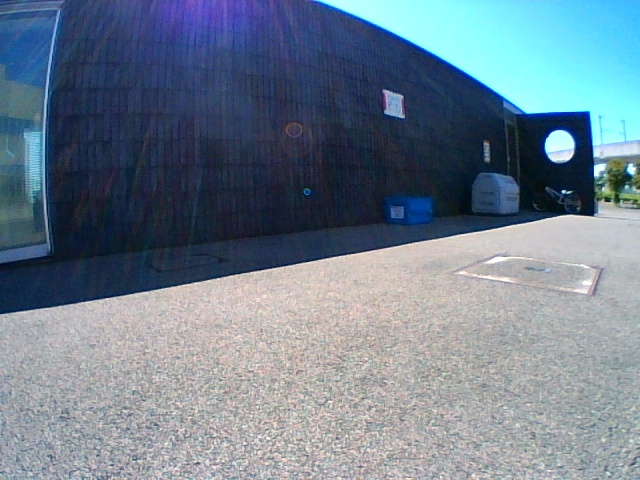blue_box: (386, 197, 433, 224)
tag: (390, 207, 404, 218)
